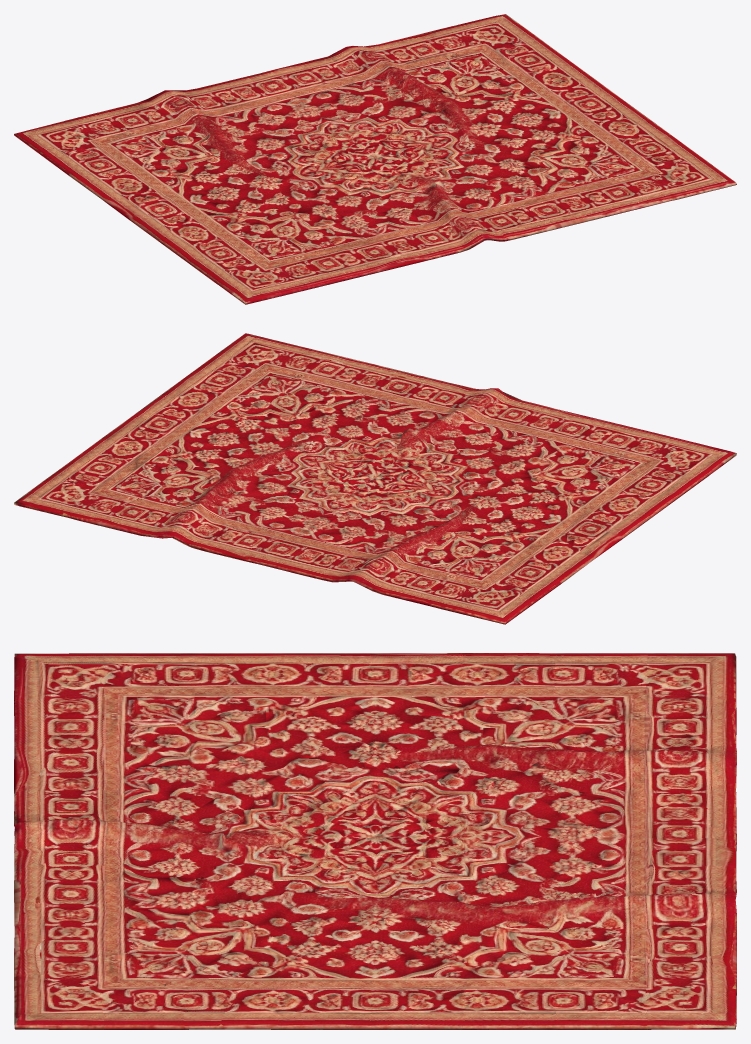
The model's file is carpet.glb.
3 renders of one model, top to bottom at view 1: azimuth 30°, elevation 25°; view 2: azimuth 150°, elevation 25°; view 3: azimuth 270°, elevation 25°, orthographic. The views are drawn at different scales.
Visible parts, largest first — view 1: mesh_node; view 2: mesh_node; view 3: mesh_node.
Boxes of the visible parts, left/top/right/bottom form: mesh_node: left=14, top=14, right=736, bottom=304; mesh_node: left=14, top=333, right=736, bottom=624; mesh_node: left=14, top=653, right=736, bottom=1029.
Size of the model in its own units: 1.9 by 0.0483 by 1.55.
1 material, 1 textured.
